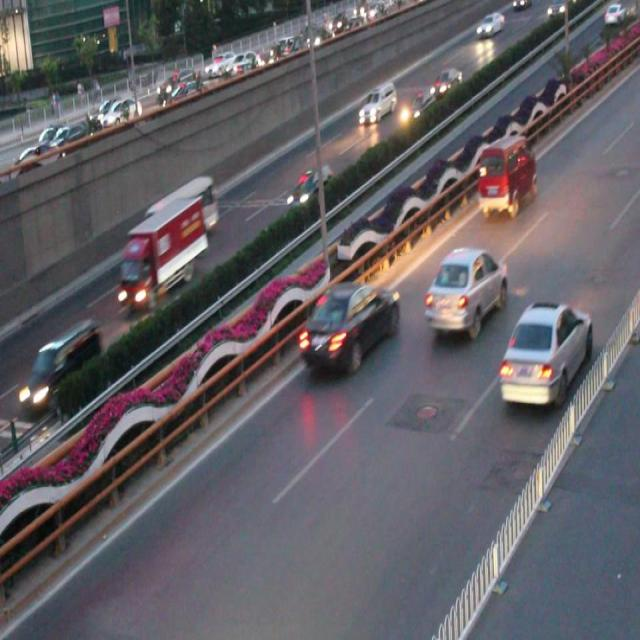bus: (118, 202, 208, 304)
car: (498, 302, 592, 406), (298, 282, 400, 369), (424, 246, 507, 338), (25, 319, 102, 418), (286, 162, 332, 208), (398, 87, 439, 128), (428, 63, 462, 98)
truck: (477, 138, 534, 218), (148, 176, 218, 240), (356, 81, 396, 126)
